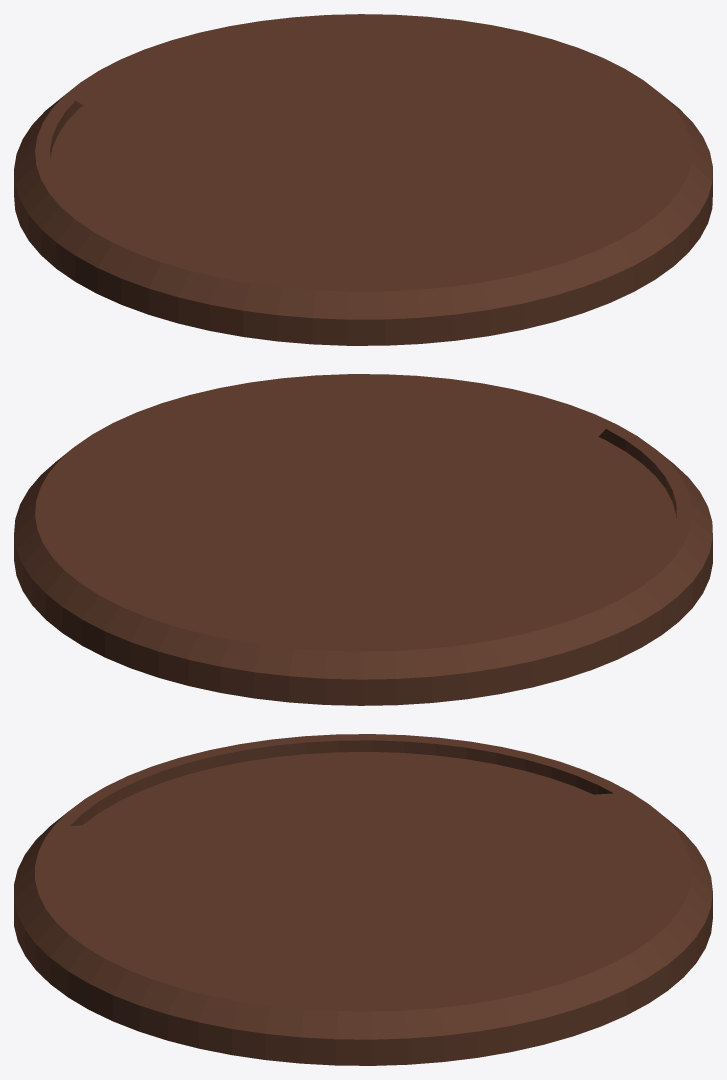
File: Fabricas.fbx
The picture shows the model from 3 angles, top to bottom: view 1: azimuth 30°, elevation 25°; view 2: azimuth 150°, elevation 25°; view 3: azimuth 270°, elevation 25°; orthographic projection.
Parts seen in each view (by area): view 1: Cylinder; view 2: Cylinder; view 3: Cylinder.
Part boxes in pixels (x1,y1,x2,y2): Cylinder: (14, 14, 712, 345); Cylinder: (14, 374, 712, 705); Cylinder: (14, 734, 712, 1065).
Size of the model in its own units: 342 by 24.46 by 342.
